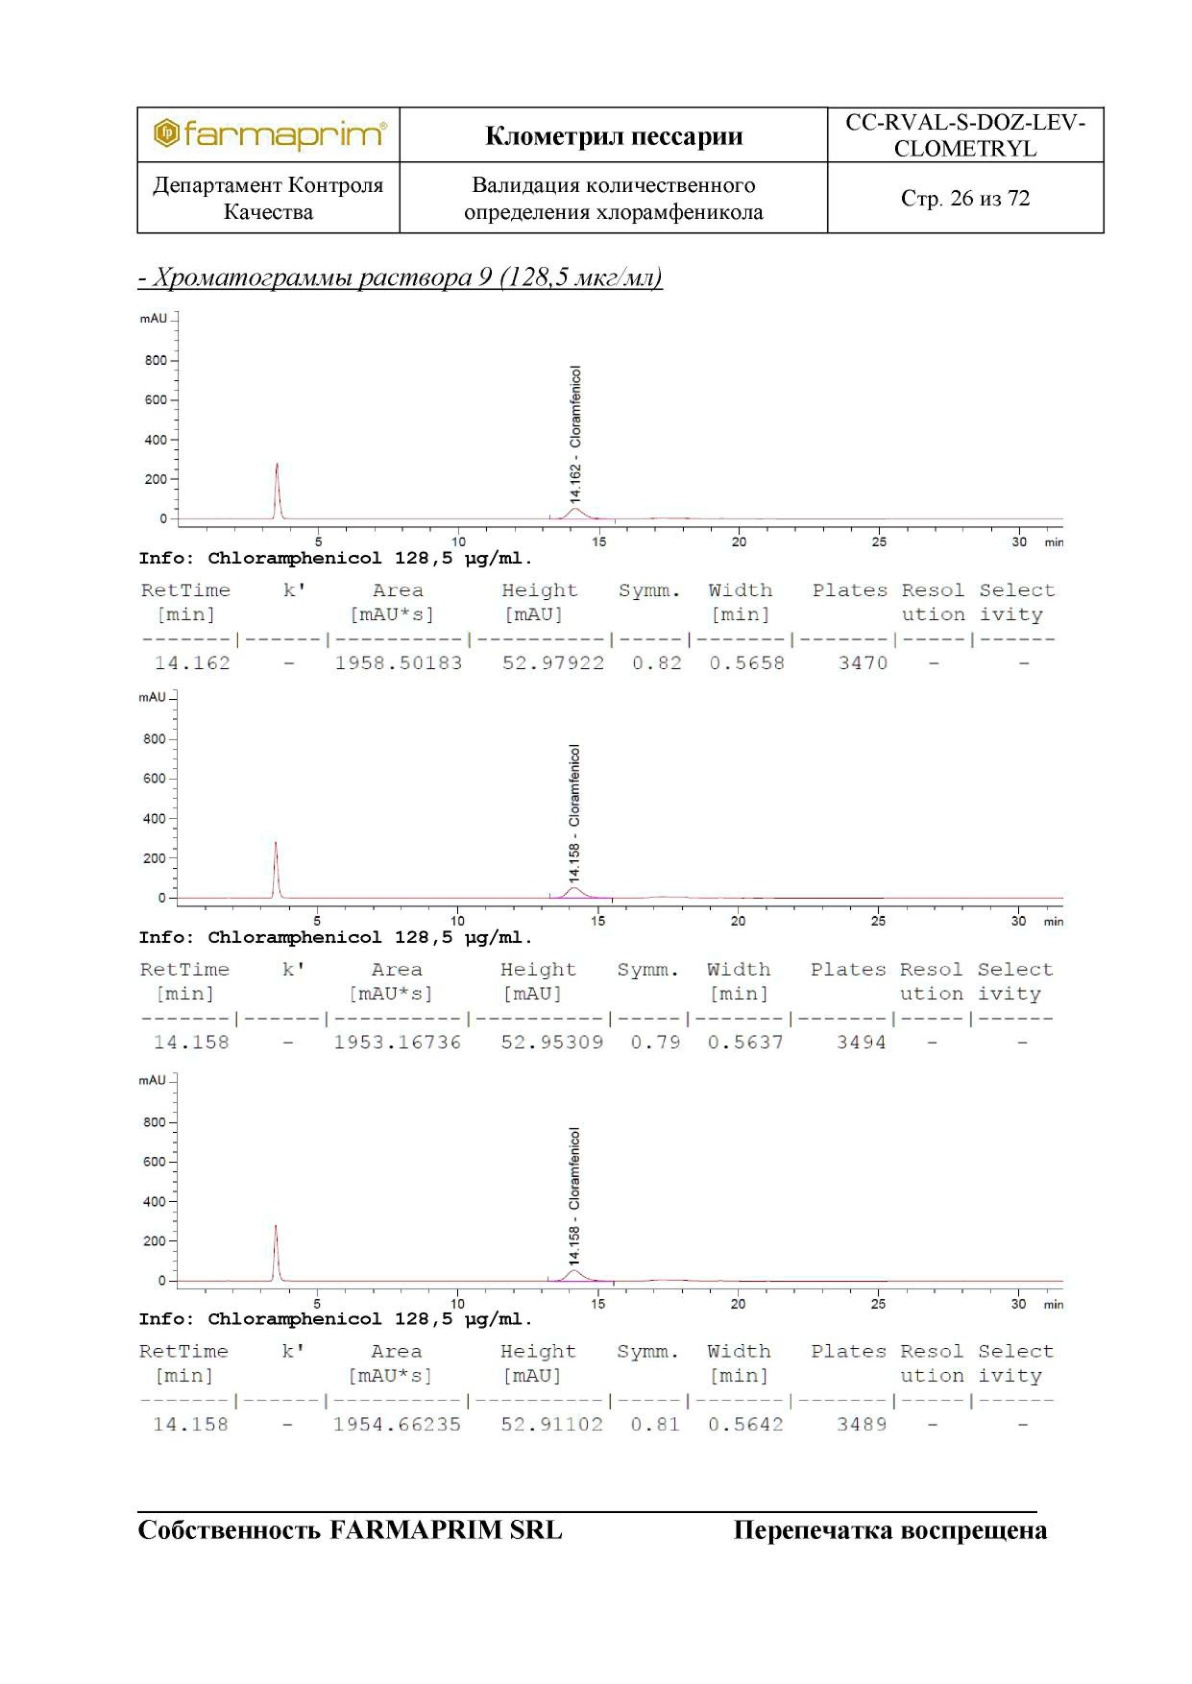full_lined: (135, 104, 1106, 235)
partial_lined: (137, 576, 1063, 680), (135, 1338, 1059, 1442), (137, 957, 1059, 1059)
